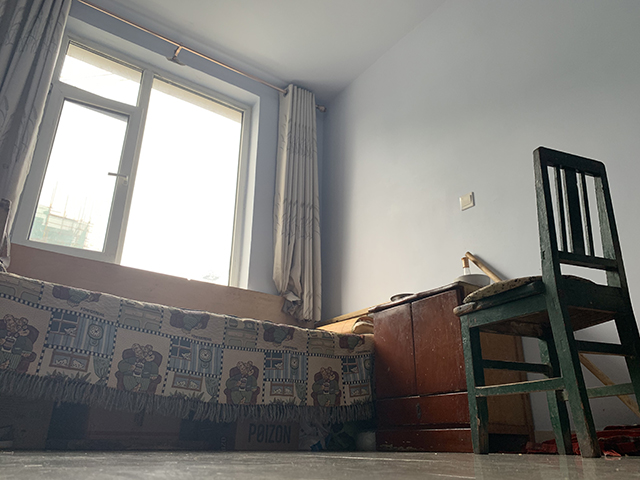bed: (1, 270, 374, 450)
cabinet: (367, 280, 538, 455)
stool: (453, 145, 640, 461)
